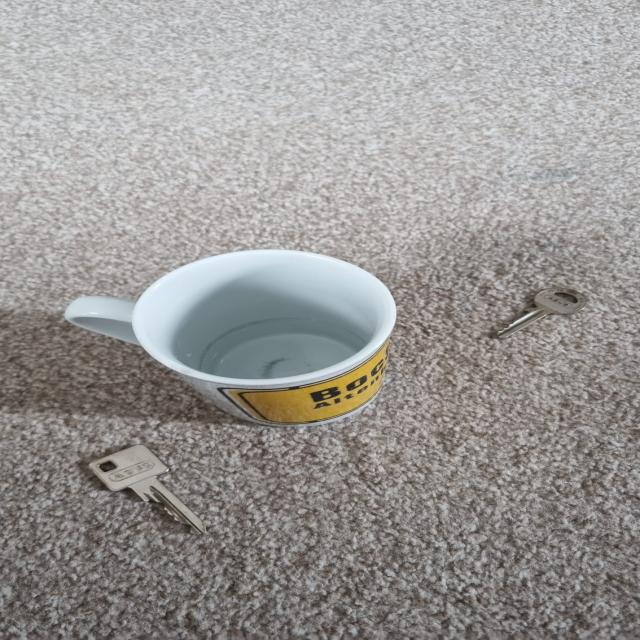Cup: (65, 250, 396, 427)
Key: (89, 445, 204, 532), (498, 288, 587, 338)
